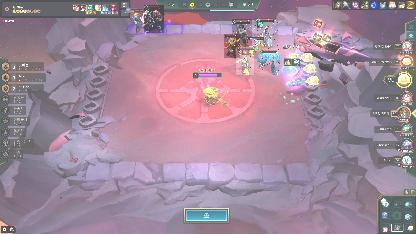1_jax: (236, 47, 254, 75)
1_volibear: (224, 34, 240, 58)
1_zac: (260, 48, 280, 76)
2_braum: (144, 5, 164, 33)
2_nasus: (232, 19, 252, 47)
2_taliyah: (254, 18, 278, 48)
